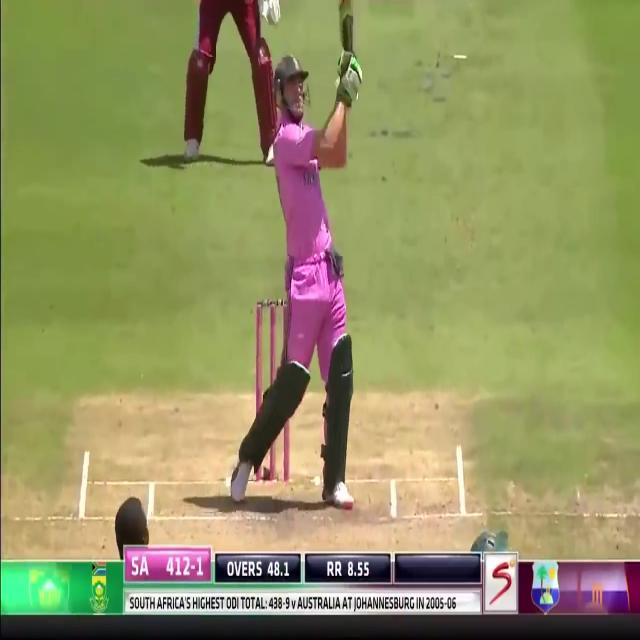Ball: (233, 19, 356, 512)
